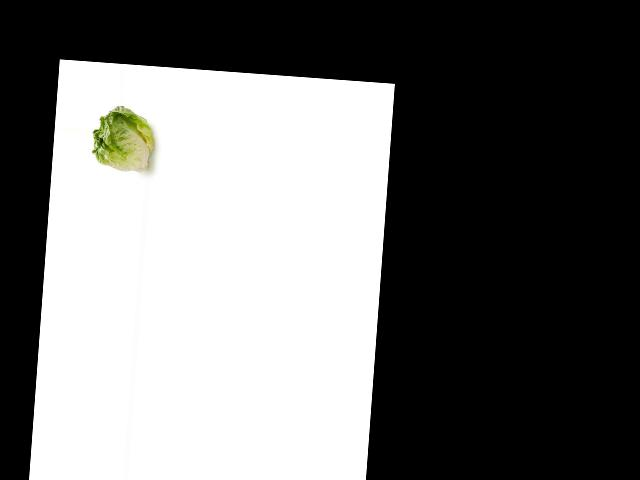lettuce: (87, 100, 155, 177)
